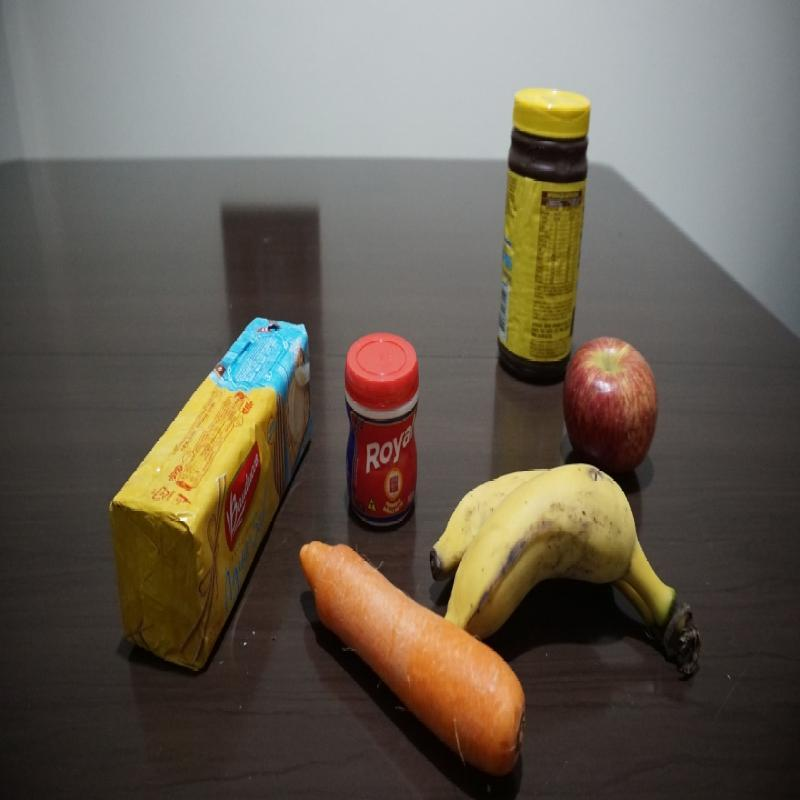Apple: (563, 340, 670, 446)
Banana: (440, 452, 712, 670)
Carrot: (312, 537, 426, 732)
Chocolate Powder: (501, 84, 591, 336)
Cracker: (108, 316, 310, 666)
Yeast: (338, 334, 424, 533)
